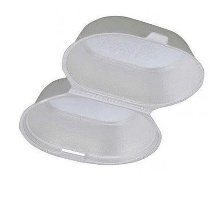foam_box: (15, 13, 208, 172)
